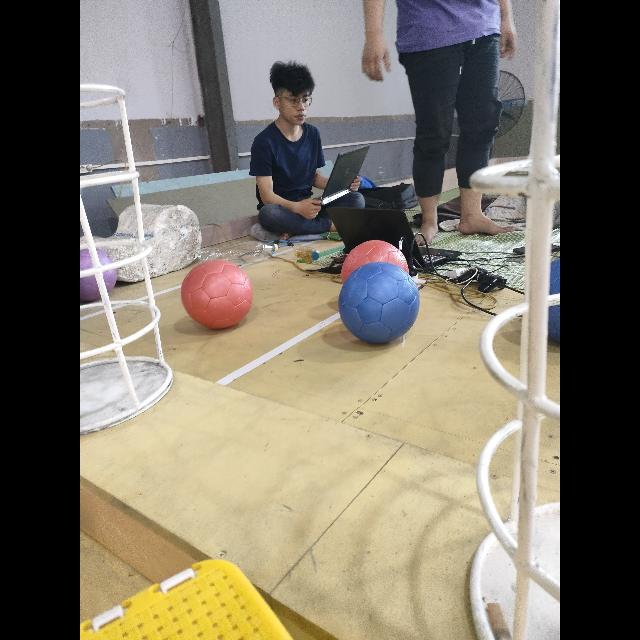B: (339, 261, 419, 343), (546, 253, 560, 344)
R: (182, 260, 252, 328), (342, 240, 408, 282)
S: (80, 77, 176, 435)
